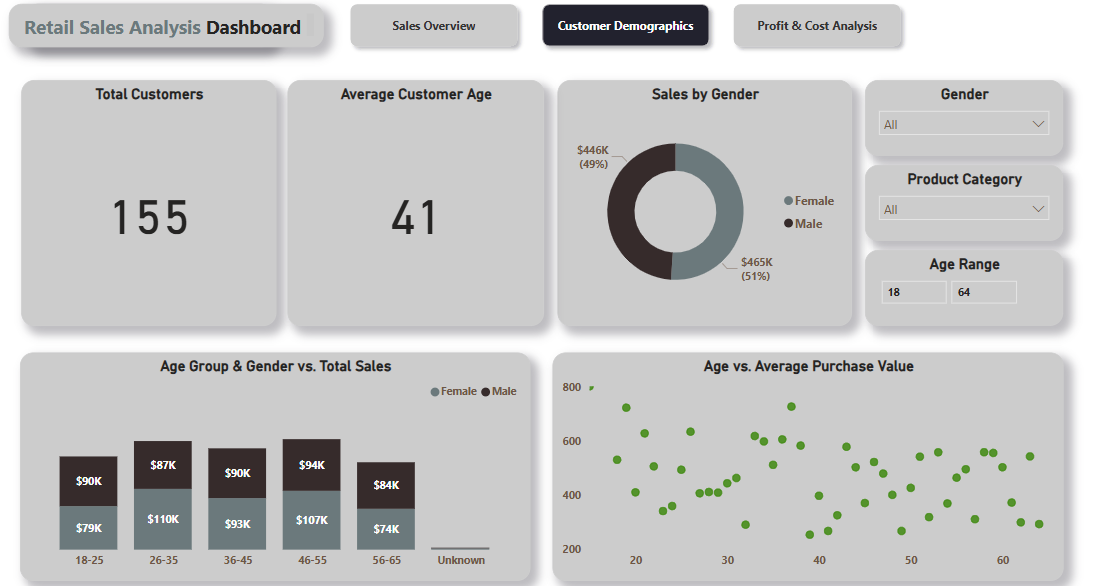

This screenshot's page, from the dashboard's own definition file:
{"tool":"powerbi","page":{"name":"Customer Demographics","canvas":[1280,720],"ordinal":1},"visuals":[{"type":"donutChart","title":"Sales by Gender","fields":{"Category":["sales.gender"],"Y":["Sum(sales.total_sale)"]},"box":[640,136.7,335.1,280],"z":0},{"type":"card","title":"Total  Customers","fields":{"Values":["Count(sales.customer_id)"]},"box":[30.1,136.7,290.2,280],"z":1000},{"type":"card","title":"Average Customer Age","fields":{"Values":["Avg(sales.age)"]},"box":[332.1,136.7,291.7,280],"z":2000},{"type":"columnChart","title":"Age Group & Gender vs. Total Sales","fields":{"Category":["sales.Age Group"],"Y":["Sum(sales.total_sale)"],"Series":["sales.gender"]},"box":[27.9,446.8,580.5,260.1],"z":3000},{"type":"scatterChart","title":"Age vs. Average Purchase Value","fields":{"X":["sales.age"],"Y":["sales.Avg Purchase Value"]},"box":[634.1,446.8,582,260.1],"z":4000},{"type":"slicer","title":"Gender","fields":{"Values":["sales.gender"]},"box":[990.5,136.7,225.6,86.7],"z":5000},{"type":"slicer","title":"Product Category","fields":{"Values":["sales.category"]},"box":[990.5,233.7,225.6,86.7],"z":6000},{"type":"slicer","title":"Age Range","fields":{"Values":["sales.age"]},"box":[990.5,329.9,225.6,86.7],"z":7000},{"type":"textbox","box":[33.8,49.2,282.9,49.2],"z":8000},{"type":"pageNavigator","box":[396.1,41.1,645.9,66.1],"z":9000},{"type":"textbox","box":[16.2,49.2,358.6,49.2],"z":10000}]}

Visuals, with their boxes on the page's 1280x720 design canvas (x1, y1, x2, y2). These are canvas units, not pixel positions in the 1095x586 screenshot, which may show the page scaled, cropped or inside an application window:
"Sales by Gender" donutChart: bbox=(640, 137, 975, 417)
"Total  Customers" card: bbox=(30, 137, 320, 417)
"Average Customer Age" card: bbox=(332, 137, 624, 417)
"Age Group & Gender vs. Total Sales" columnChart: bbox=(28, 447, 608, 707)
"Age vs. Average Purchase Value" scatterChart: bbox=(634, 447, 1216, 707)
"Gender" slicer: bbox=(990, 137, 1216, 223)
"Product Category" slicer: bbox=(990, 234, 1216, 320)
"Age Range" slicer: bbox=(990, 330, 1216, 417)
textbox: bbox=(34, 49, 317, 98)
pageNavigator: bbox=(396, 41, 1042, 107)
textbox: bbox=(16, 49, 375, 98)
